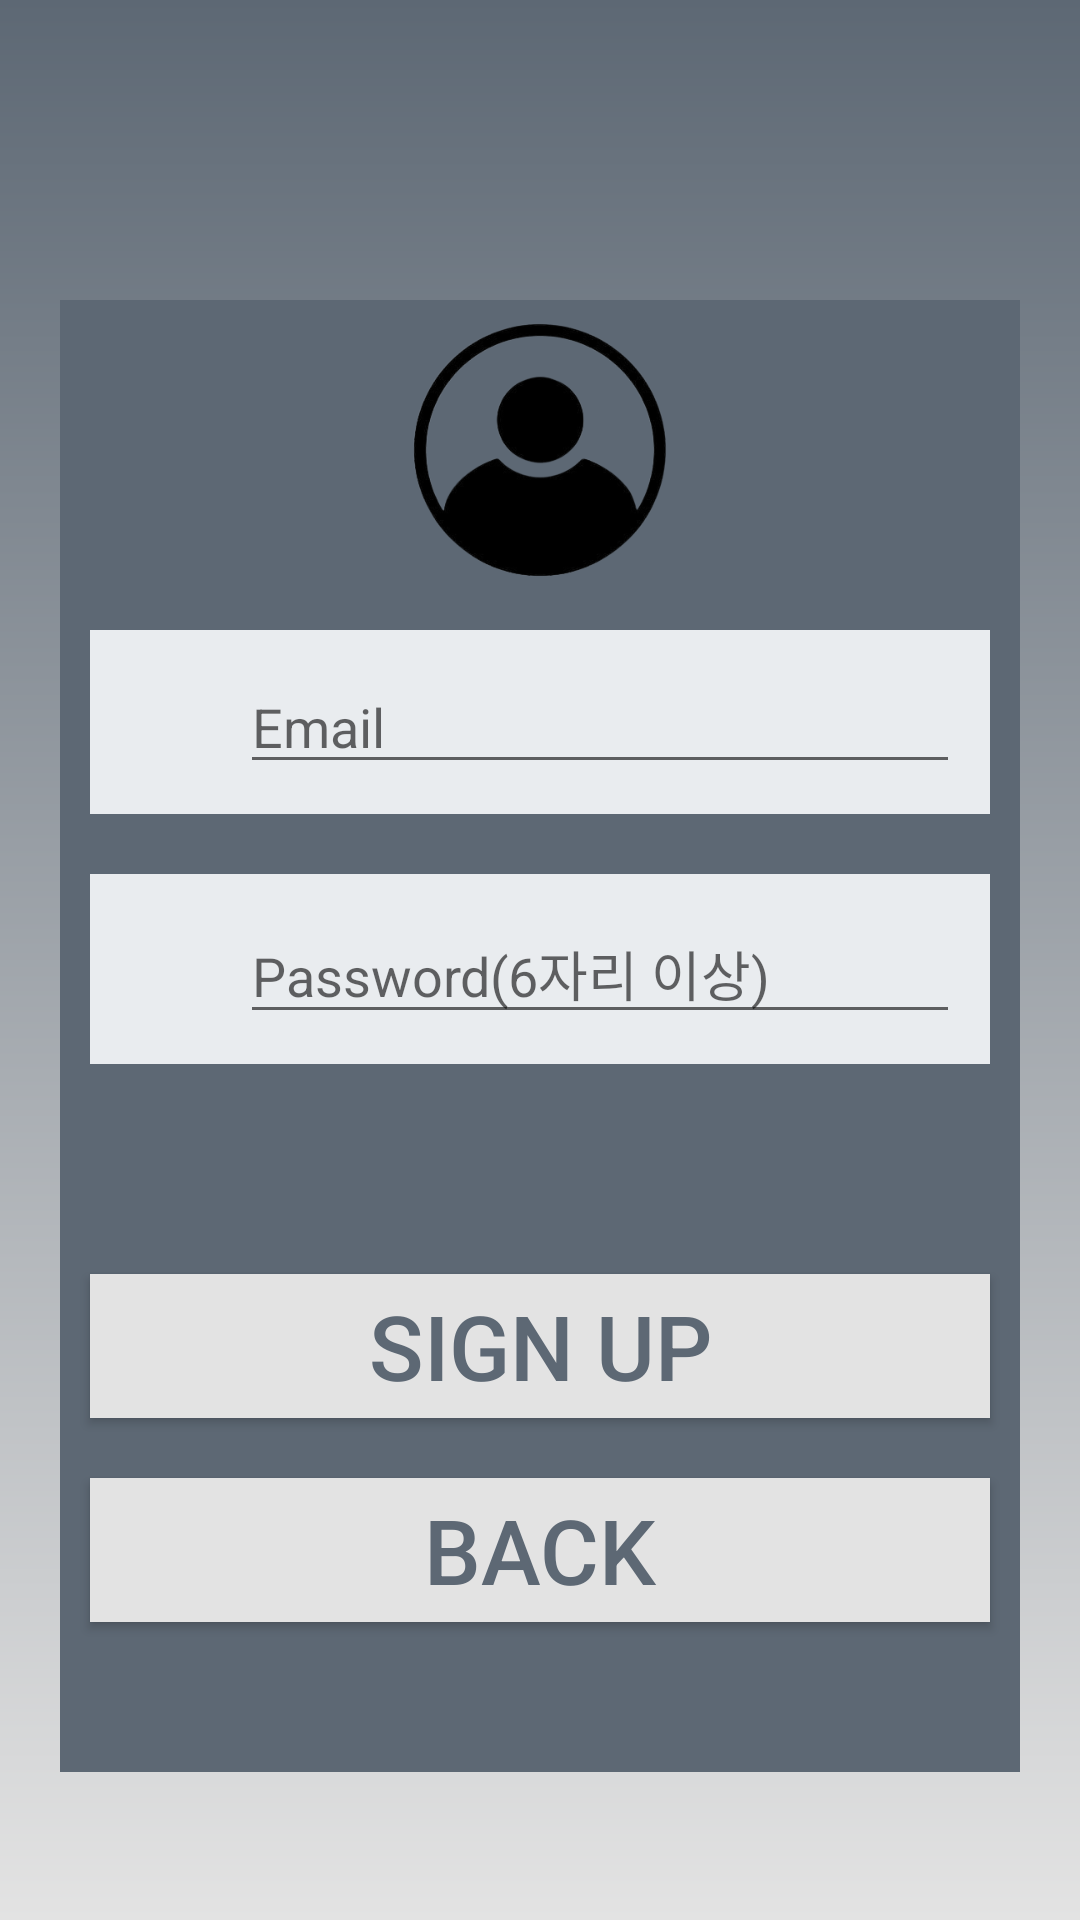

Screen size 1080px x 1920px. Icon name, then its center in pixels as (x=x, y=y):
user: (x=540, y=450)
